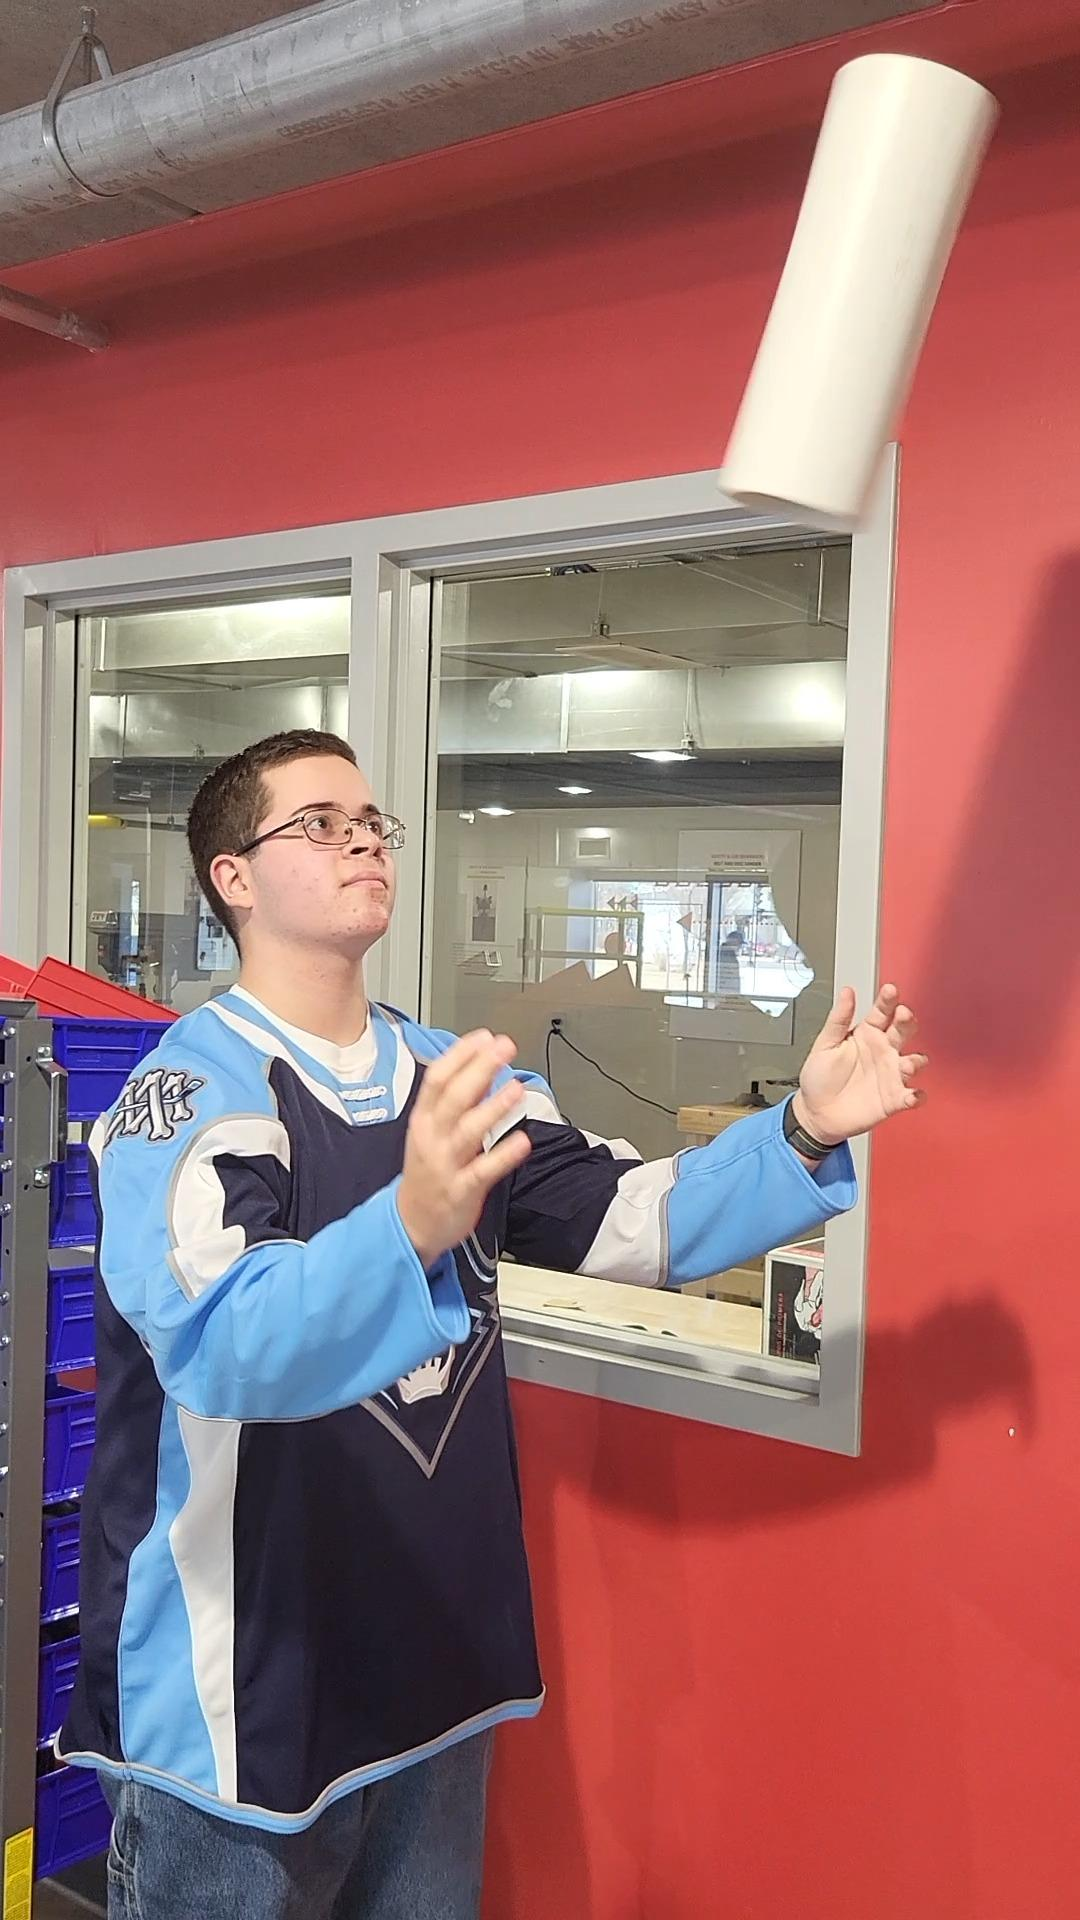coral: (720, 50, 1004, 543)
